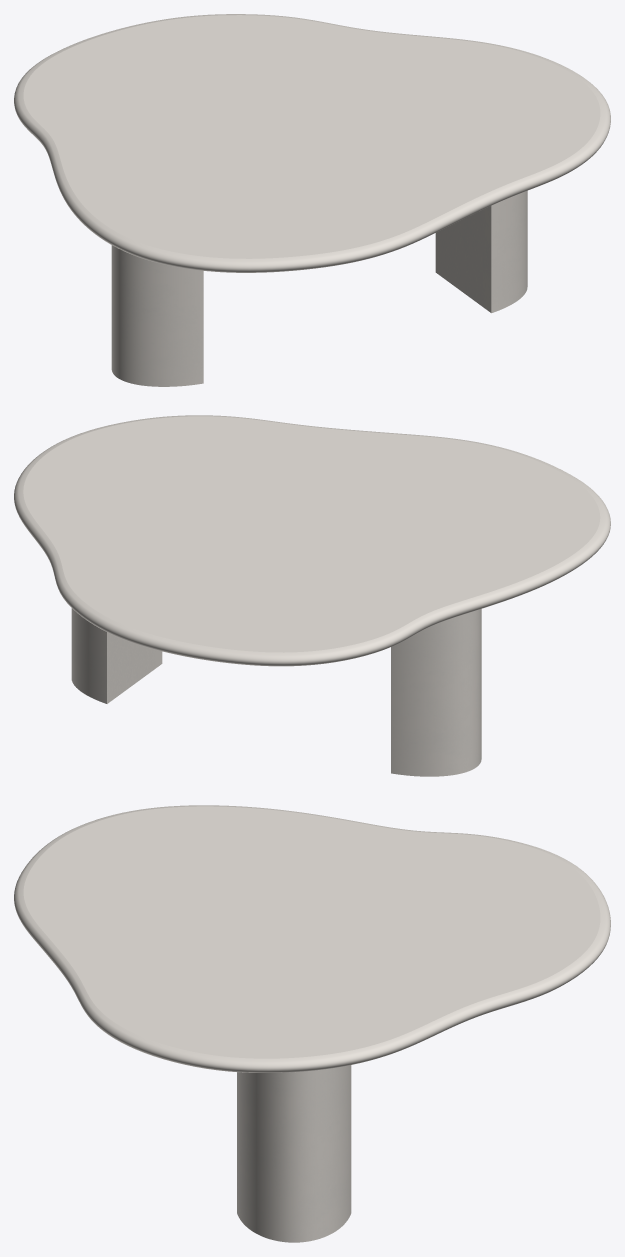
File: pearlwhite_topone_round_hillside.glb
The picture shows the model from 3 angles, top to bottom: view 1: azimuth 30°, elevation 25°; view 2: azimuth 150°, elevation 25°; view 3: azimuth 270°, elevation 25°; orthographic projection. The views are drawn at different scales.
Parts seen in each view (by area): view 1: round_topone, hillside; view 2: round_topone, hillside; view 3: round_topone, hillside.
Part boxes in pixels (x1,y1,x2,y2): round_topone: (14, 14, 610, 272); hillside: (111, 190, 527, 386); round_topone: (14, 415, 610, 666); hillside: (71, 608, 481, 776); round_topone: (14, 805, 610, 1072); hillside: (237, 1065, 351, 1242).
Size of the model in its own units: 6.83 by 2.5 by 6.6.
Materials: 1 (1 with a texture image).
